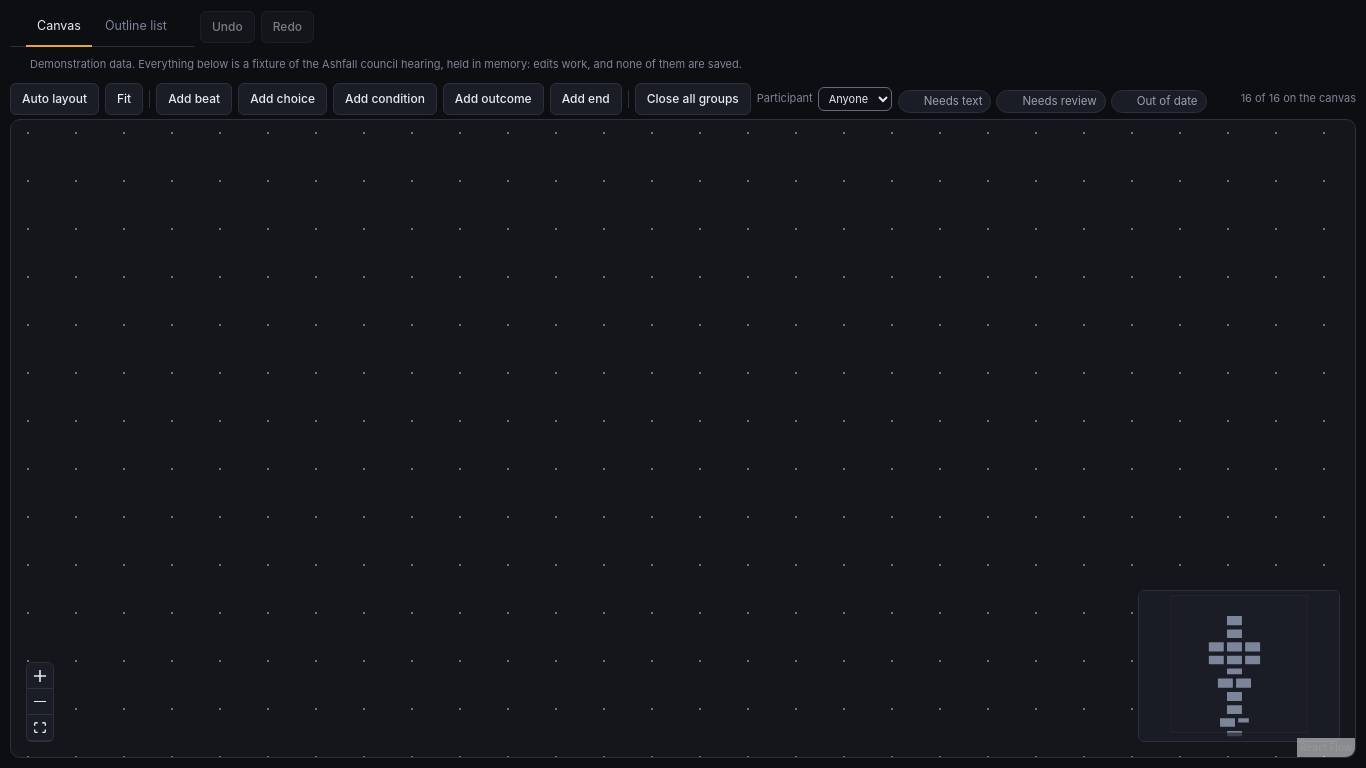
the outline list, as a full alternative to the canvas › lists the scene in reading order from its start
What coordinates should you click on to do the following:
click the button "Outline list"
I would click on:
 (136, 27)
Its box is [94, 8, 178, 47].
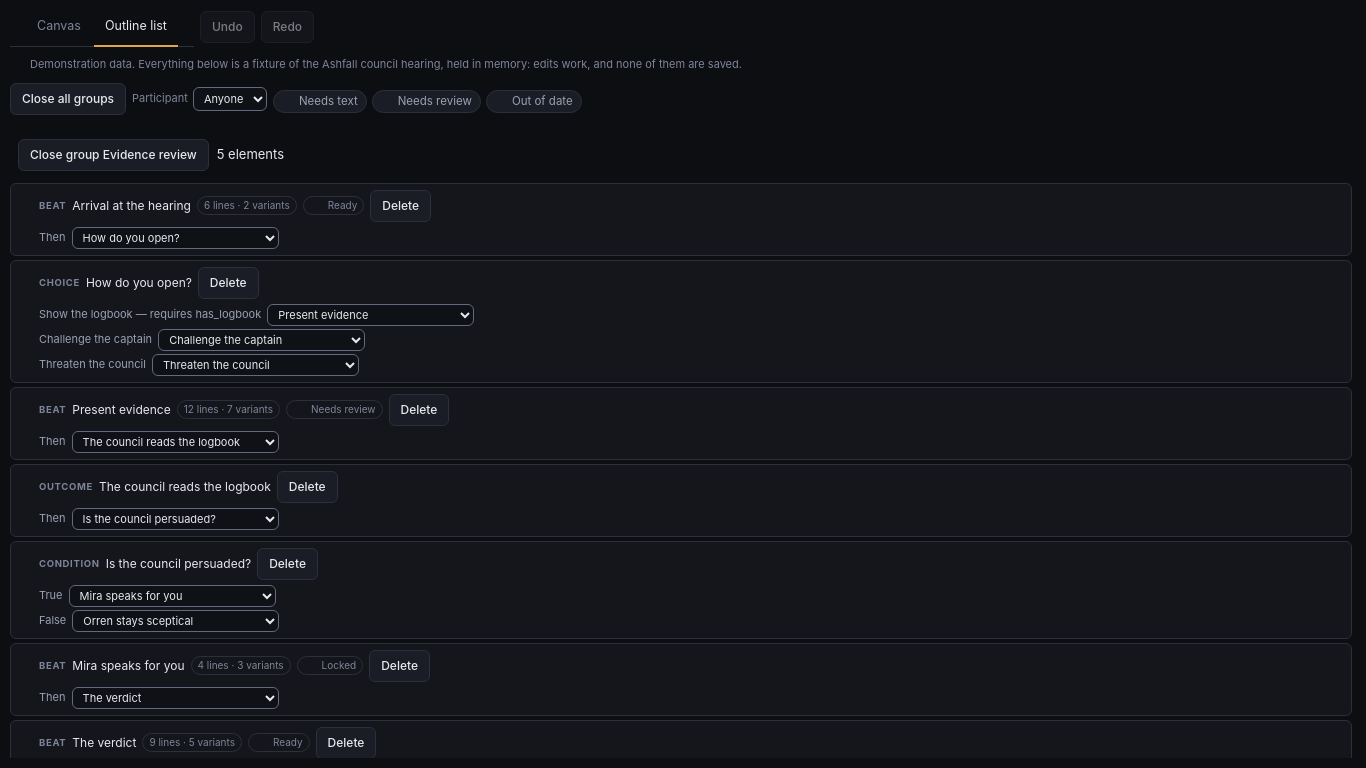
Now the list item with class "nrt-outline-row" shows "Arrival at the hearing", box [19, 197, 191, 215]
Now the list item with class "nrt-outline-row" shows "How do you open?", box [19, 274, 192, 292]
Now the list item with class "nrt-outline-row" shows "12 lines · 7 variants", box [10, 387, 1352, 460]
